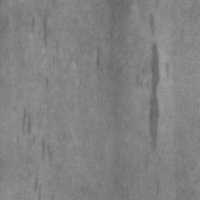inclusion: (143, 34, 172, 156), (19, 104, 54, 165), (29, 12, 54, 49), (91, 38, 108, 77), (26, 175, 50, 200)
